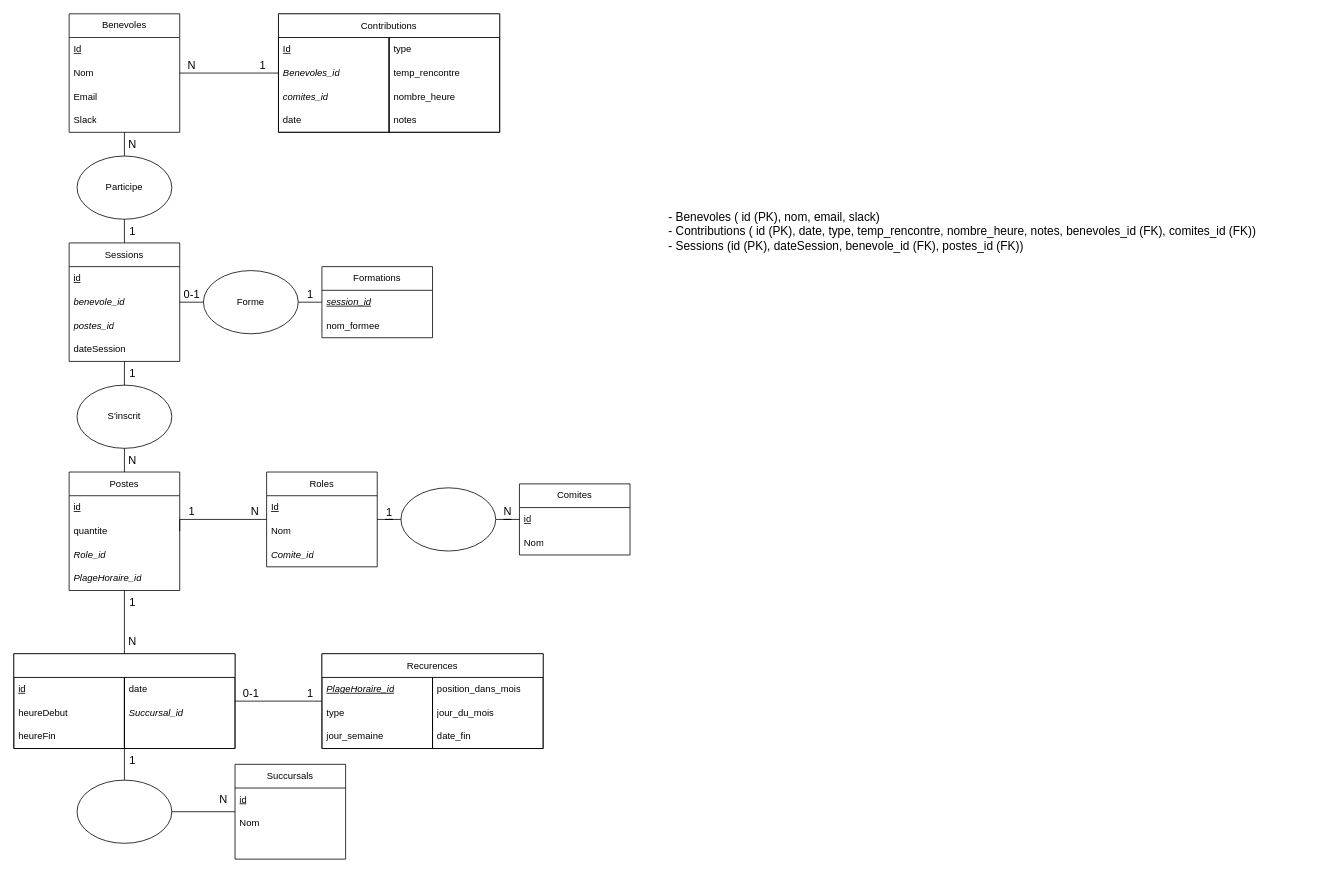
Image size: 1331x873. Some labels were removed from this diagram. The centre of each missing label's shape, as x and y in pixels:
"PlageHoraire" belongs at point (124, 701).
"Rattaché" belongs at point (448, 519).
"À lieu" belongs at point (124, 811).
